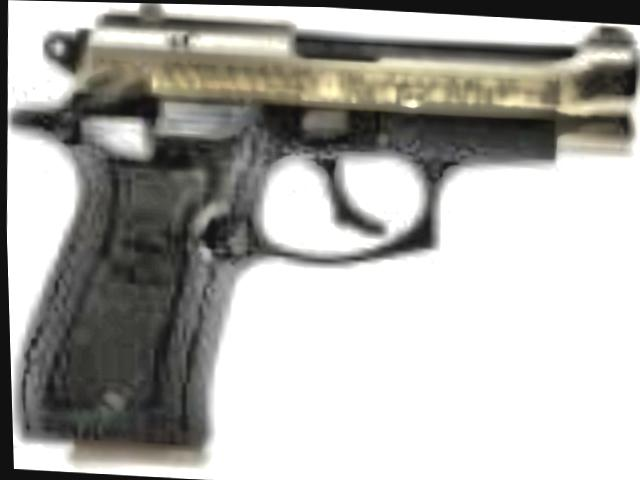pistol: (0, 0, 640, 466)
